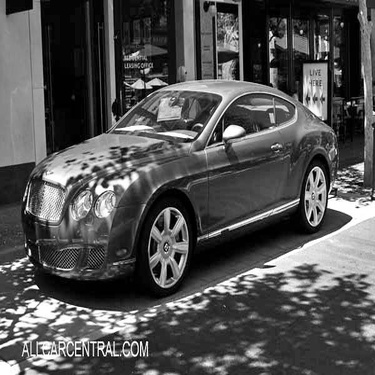car: (17, 75, 346, 300)
